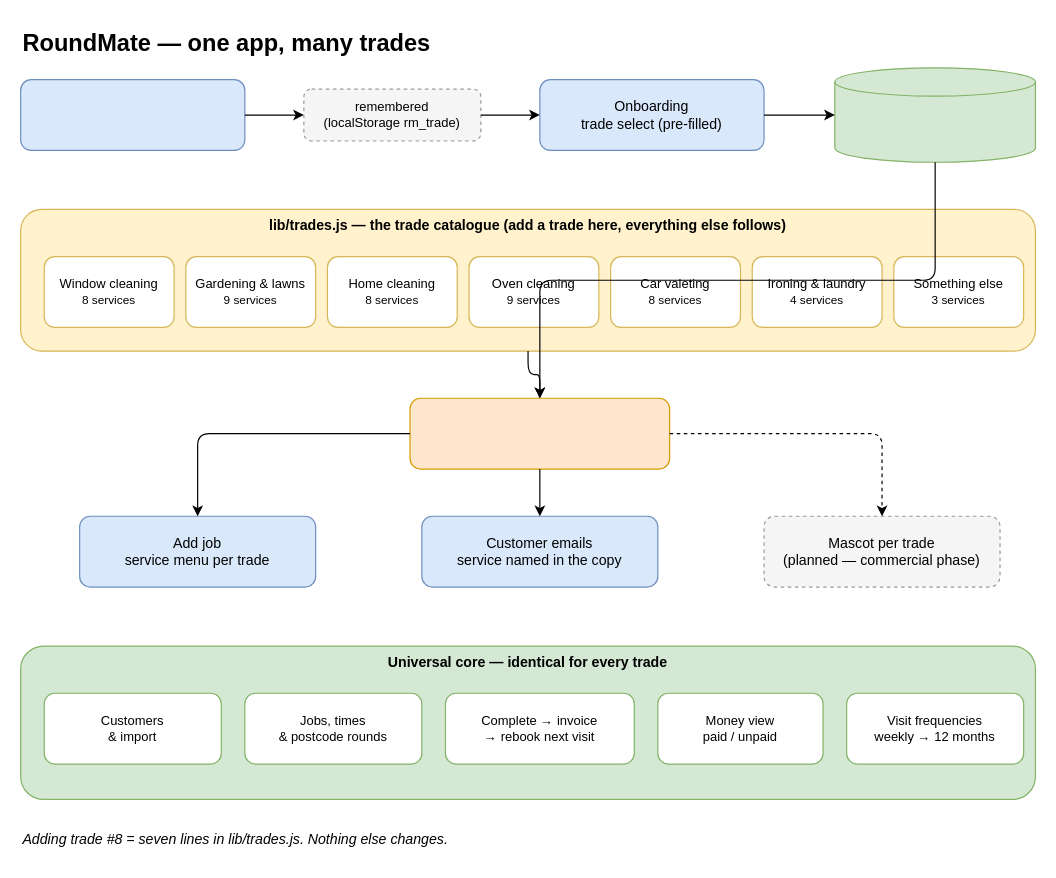
This 1056x878 diagram has some shape labels left out. Here are the shapes that lost their labels. From the top down, the centre of each, then its label:
[132,114]: Landing page "What's your trade?" chips
[934,114]: businesses.trade (Supabase)
[539,433]: servicesForTrade(trade) one lookup — no per-trade code
